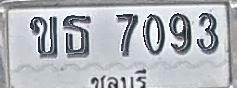0: (142, 13, 164, 55)
3: (196, 12, 218, 54)
7: (116, 13, 138, 57)
9: (169, 12, 191, 55)
A02: (30, 16, 58, 58)
A24: (62, 14, 91, 58)
CBI: (89, 67, 149, 88)
